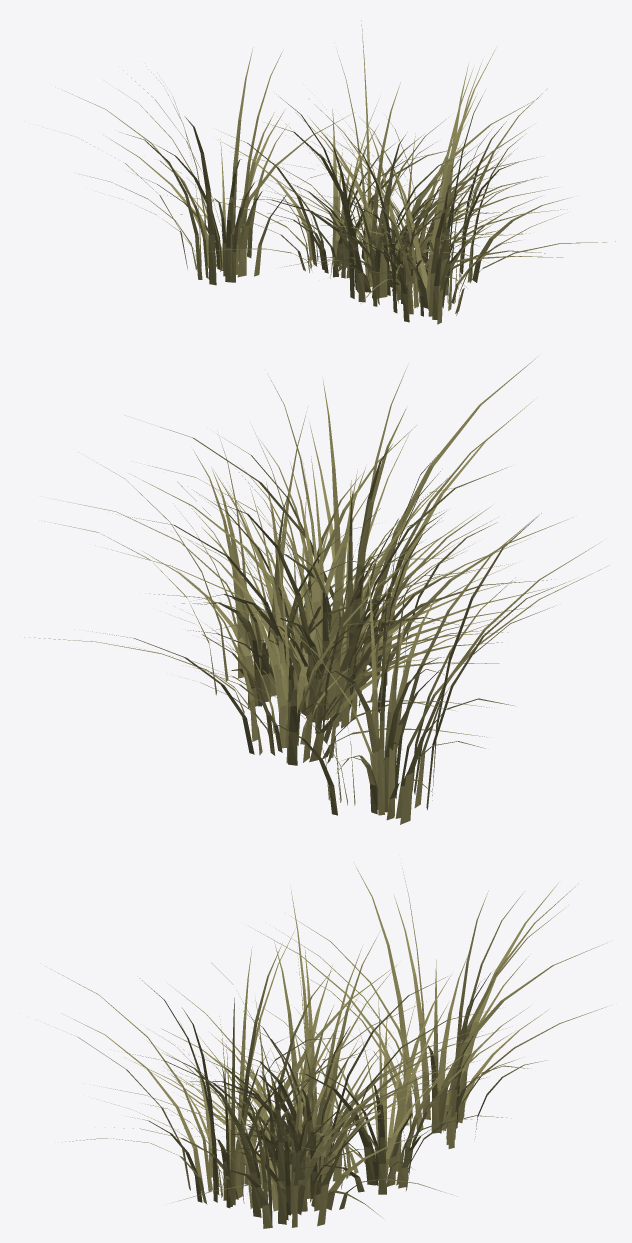
The model's file is DryGrassClump.glb.
3 views of the same model, one above another, from view 1: azimuth 30°, elevation 25°; view 2: azimuth 150°, elevation 25°; view 3: azimuth 270°, elevation 25° (orthographic). The views are drawn at different scales.
Visible parts, largest first — view 1: DryGrassClumpVisual; view 2: DryGrassClumpVisual; view 3: DryGrassClumpVisual.
Boxes of the visible parts, x1=… form: DryGrassClumpVisual: x1=58, y1=20, x2=615, y2=324; DryGrassClumpVisual: x1=24, y1=355, x2=609, y2=824; DryGrassClumpVisual: x1=45, y1=862, x2=607, y2=1228.
Size of the model in its own units: 1.37 by 0.6328 by 1.47.
